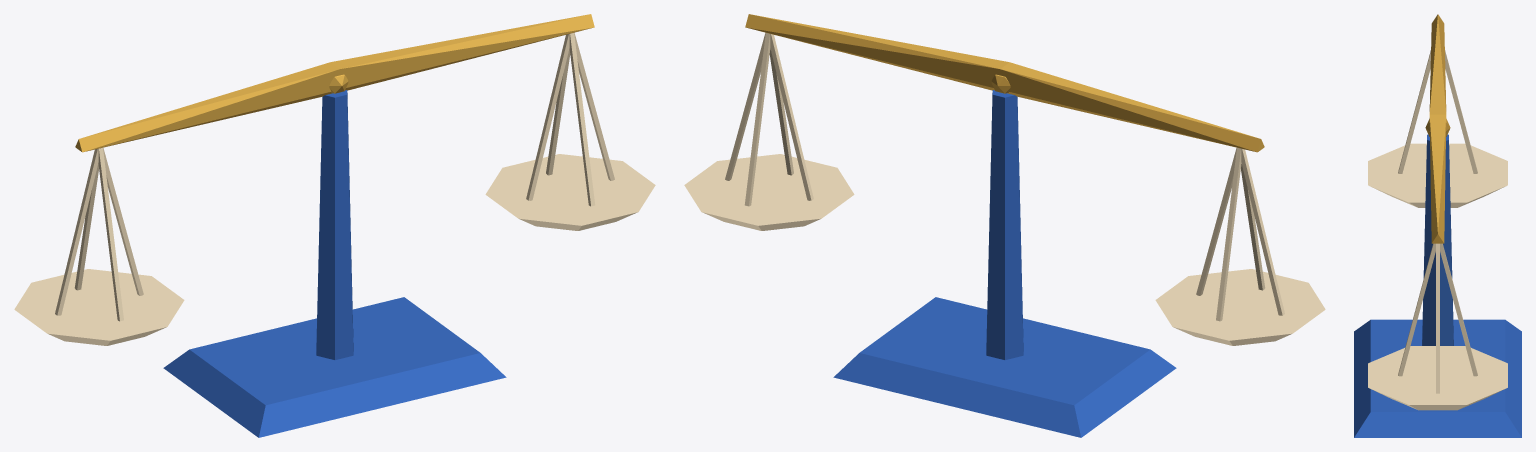
Rendered from scale.glb.
3 renders of one model, left to right at view 1: azimuth 30°, elevation 25°; view 2: azimuth 150°, elevation 25°; view 3: azimuth 270°, elevation 25°, orthographic. The views are drawn at different scales.
Visible parts, largest first — view 1: base, pan_left, pan_right, beam, pillar; view 2: base, pan_left, pan_right, beam, pillar; view 3: base, pan_right, pan_left, pillar, beam.
Boxes of the visible parts, x1=… form: base: x1=163, y1=297, x2=506, y2=437; pan_left: x1=14, y1=147, x2=184, y2=345; pan_right: x1=485, y1=32, x2=655, y2=230; beam: x1=75, y1=14, x2=594, y2=152; pillar: x1=316, y1=74, x2=353, y2=359; base: x1=833, y1=297, x2=1176, y2=437; pan_left: x1=1155, y1=147, x2=1325, y2=345; pan_right: x1=684, y1=32, x2=854, y2=230; beam: x1=745, y1=14, x2=1264, y2=152; pillar: x1=986, y1=74, x2=1023, y2=359; base: x1=1354, y1=319, x2=1521, y2=437; pan_right: x1=1368, y1=243, x2=1507, y2=410; pan_left: x1=1368, y1=50, x2=1507, y2=207; pillar: x1=1422, y1=119, x2=1453, y2=345; beam: x1=1429, y1=14, x2=1446, y2=243.
Size of the model in its own units: 0.2945 by 0.142 by 0.08.
